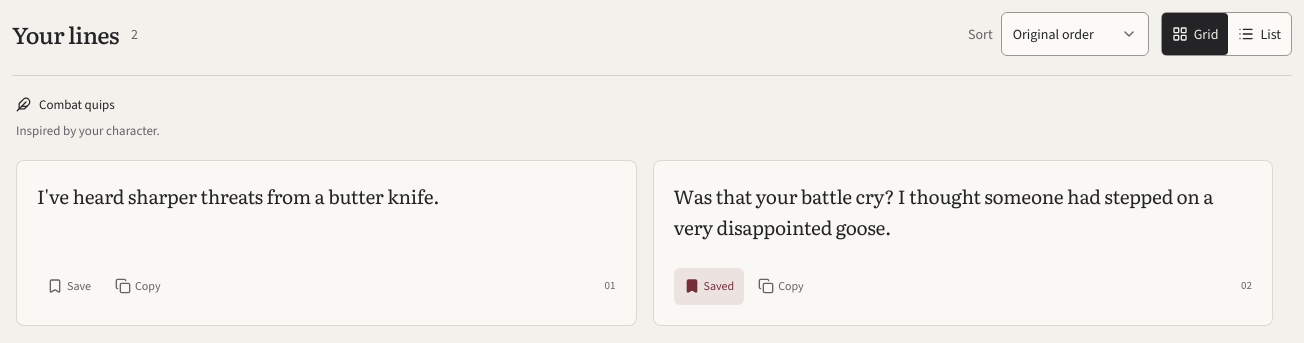
Test: exposes visible save and copy actions and a pressed saved state
Click the button "Save" at (69, 286), box [37,268,101,305]
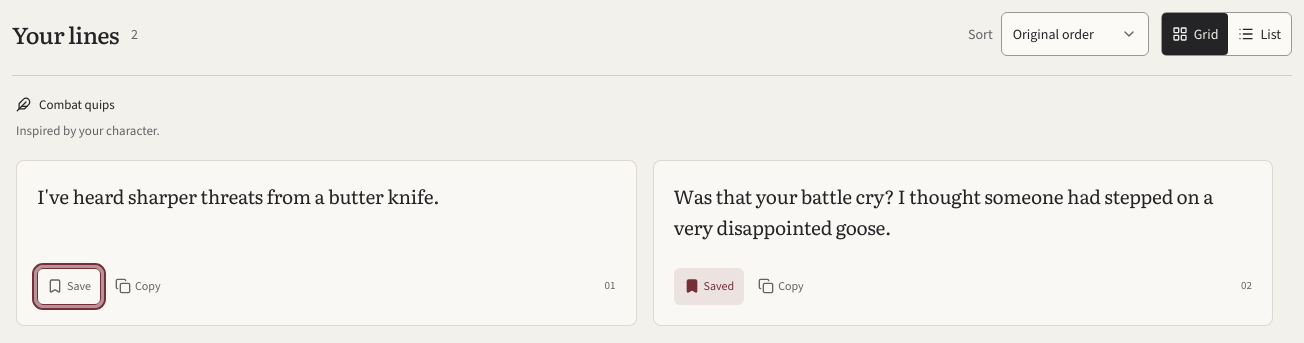
Click the button "Copy" in the row of "01" at (138, 286), box [105,268,171,305]
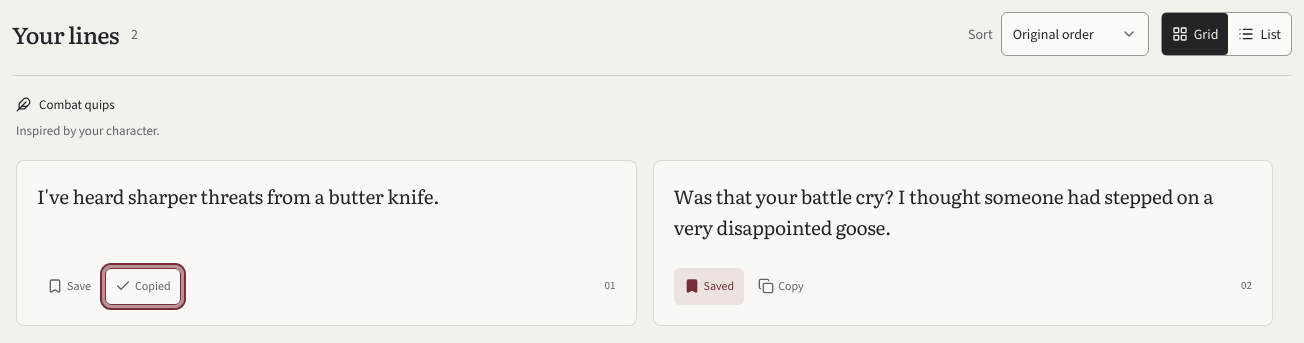
Now the button "Copied" is shown, box [105,268,181,305]
